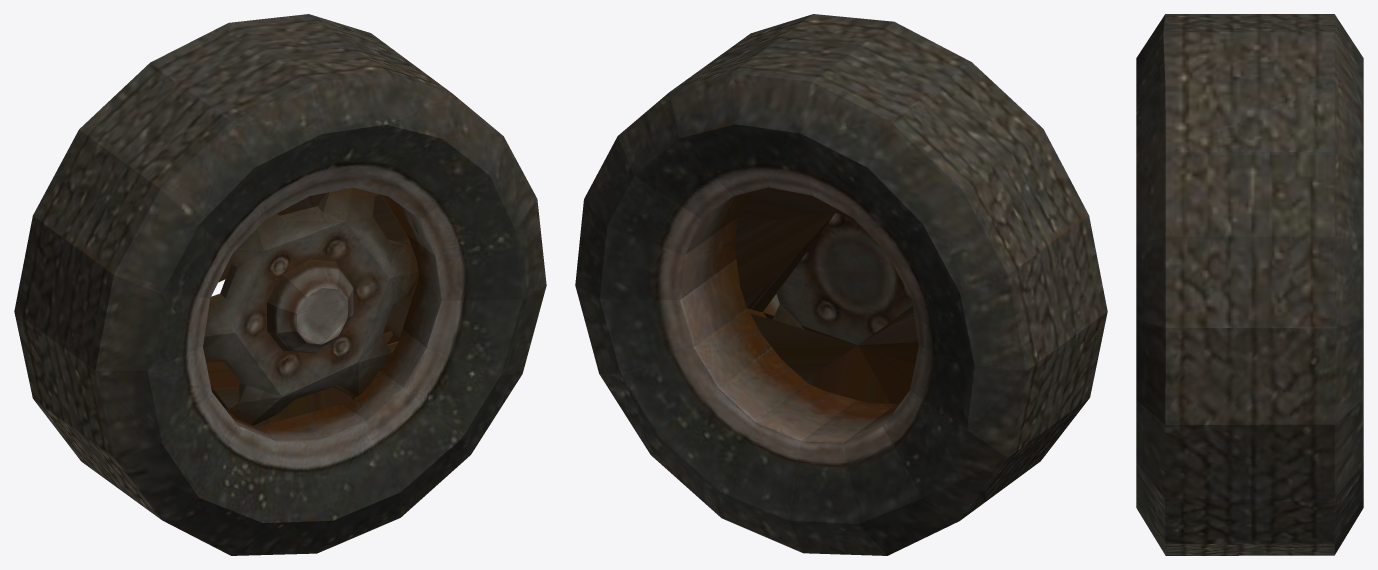
The model's file is car_m_v2_wheel.glb.
The picture shows the model from 3 angles, left to right: view 1: azimuth 30°, elevation 25°; view 2: azimuth 150°, elevation 25°; view 3: azimuth 270°, elevation 25°; orthographic projection. The views are drawn at different scales.
Visible parts, largest first — view 1: geometry_0; view 2: geometry_0; view 3: geometry_0.
Part boxes in pixels (box(x1,y1,x2,y2)): geometry_0: box(14, 14, 546, 555); geometry_0: box(575, 14, 1107, 555); geometry_0: box(1136, 14, 1363, 555).
Bounding box in the file's own units: 0.7188 × 0.72 × 0.3008.
Materials: 1 (1 with a texture image).
